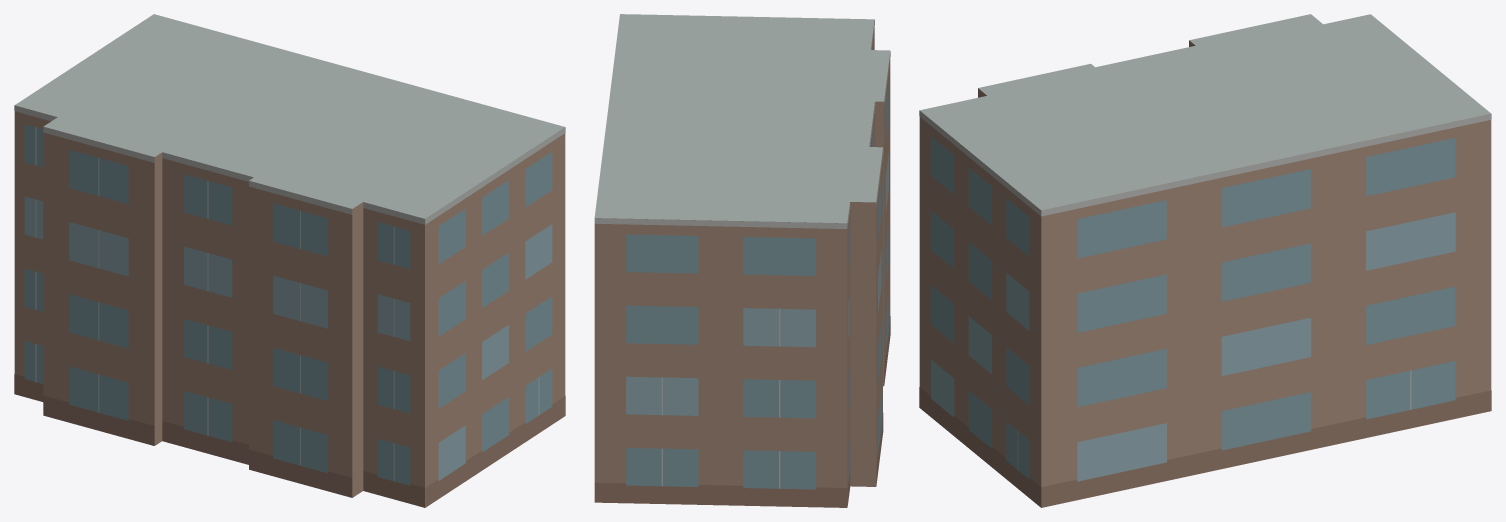
Rendered from survey-upis-32833568.glb.
The picture shows the model from 3 angles, left to right: view 1: azimuth 30°, elevation 25°; view 2: azimuth 150°, elevation 25°; view 3: azimuth 270°, elevation 25°; orthographic projection. The views are drawn at different scales.
Parts seen in each view (by area): view 1: survey-upis-32833568.tmp; view 2: survey-upis-32833568.tmp; view 3: survey-upis-32833568.tmp.
Boxes of the visible parts, x1,y1,x2,y2 form: survey-upis-32833568.tmp: [14, 14, 565, 507]; survey-upis-32833568.tmp: [594, 14, 890, 507]; survey-upis-32833568.tmp: [919, 14, 1491, 507].
Size of the model in its own units: 17.01 by 12 by 20.92.
